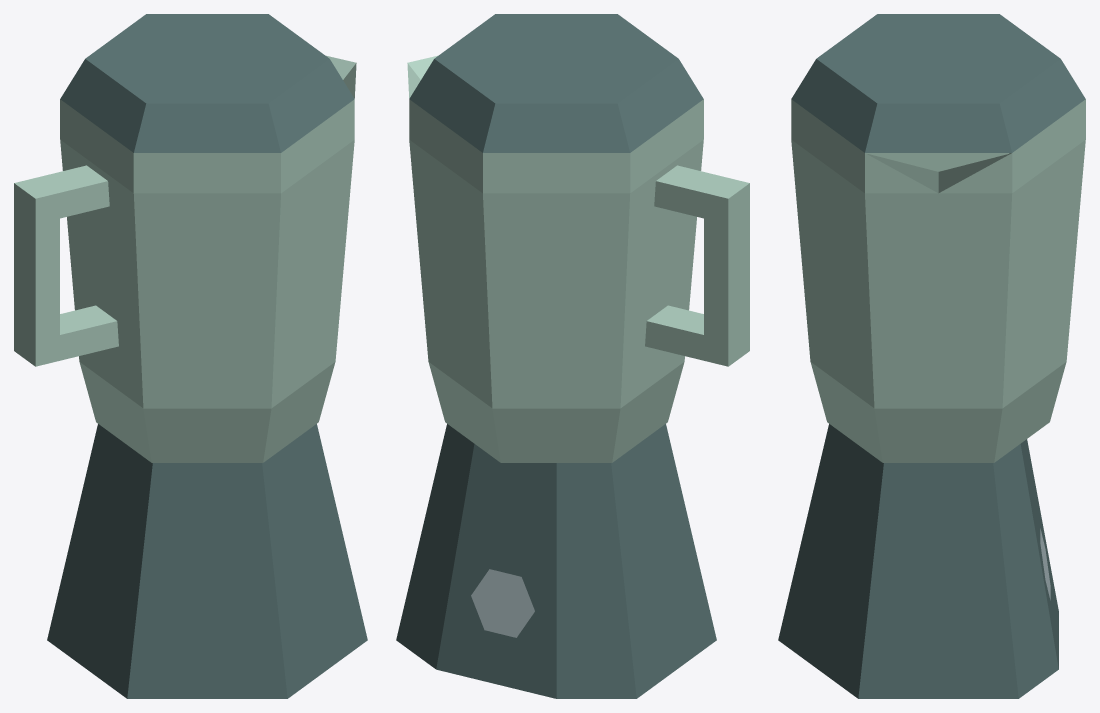
The model's file is kitchenBlender.glb.
The picture shows the model from 3 angles, left to right: view 1: azimuth 30°, elevation 25°; view 2: azimuth 150°, elevation 25°; view 3: azimuth 270°, elevation 25°; orthographic projection.
Parts seen in each view (by area): view 1: kitchenBlender; view 2: kitchenBlender; view 3: kitchenBlender.
Boxes of the visible parts, box(x1,y1,x2,y2) form: kitchenBlender: box(14, 14, 367, 698); kitchenBlender: box(396, 14, 749, 698); kitchenBlender: box(778, 14, 1085, 698).
Size of the model in its own units: 0.3117 by 0.5222 by 0.2504.
